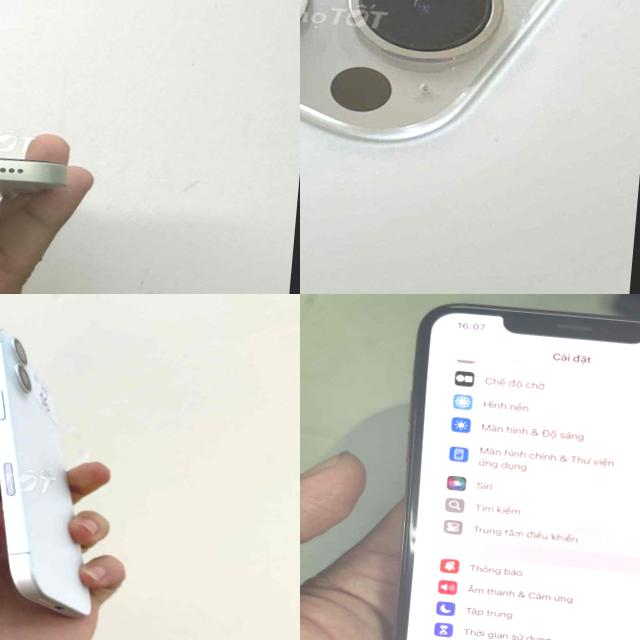gen_12_13: (0, 132, 110, 218)
gen_14: (300, 0, 640, 294)
gen_16: (0, 316, 140, 639)
gen_x_xs: (348, 294, 640, 640)
